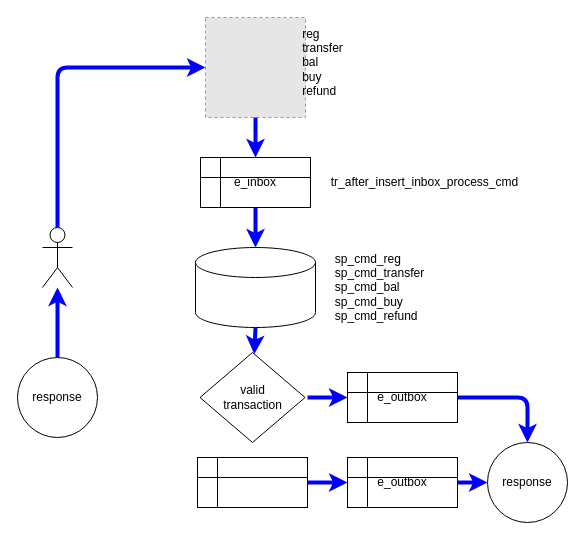
Some shapes in this 585 by 540 pixel diagram are drawn without their labels. Grey dashed boxes stand in for pictures. Here are the shapes that lost their labels. From the top down, the centre of each, then its label:
At pixel 57 257: "Subscriber".
At pixel 255 287: "classicmodels".
At pixel 252 482: "e_ledger".
